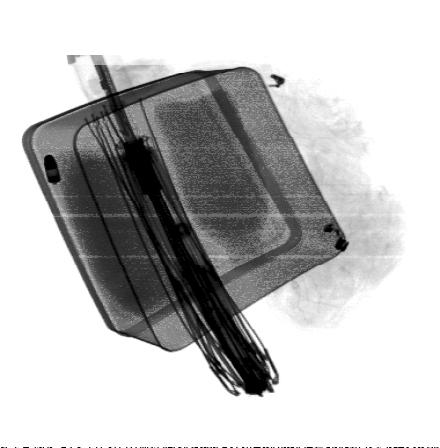Bullet: (43, 152, 63, 185)
